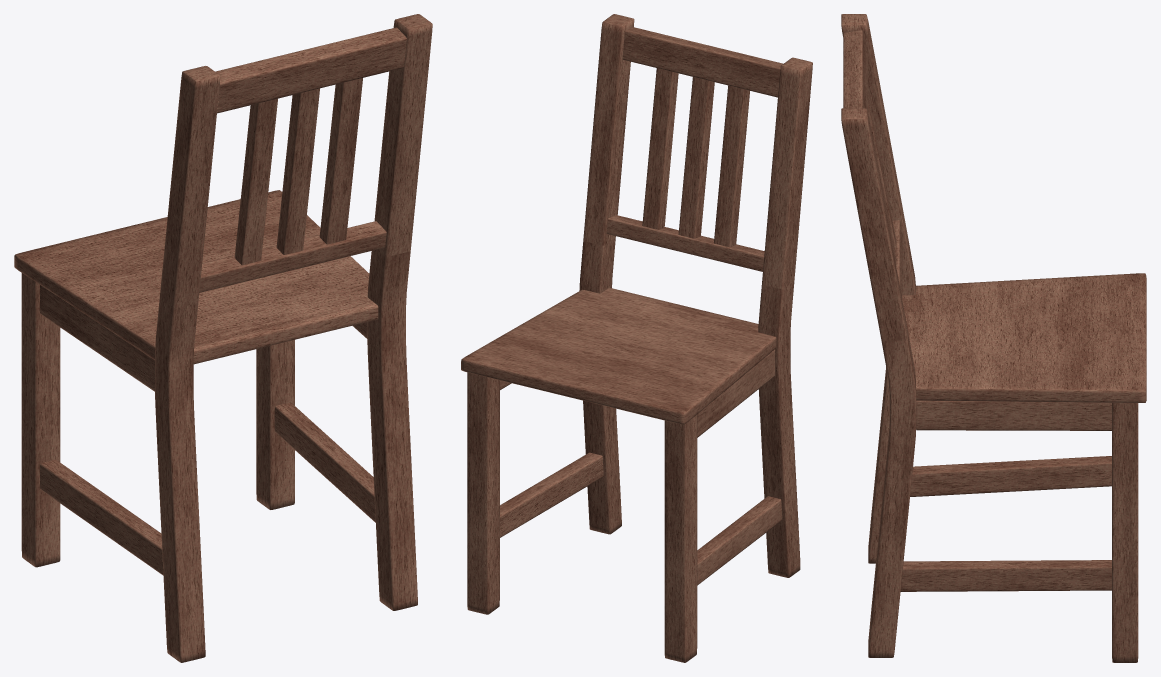
Rendered from Chair41.fbx.
The picture shows the model from 3 angles, left to right: view 1: azimuth 30°, elevation 25°; view 2: azimuth 150°, elevation 25°; view 3: azimuth 270°, elevation 25°; orthographic projection. The views are drawn at different scales.
Parts seen in each view (by area): view 1: Chair41; view 2: Chair41; view 3: Chair41.
Boxes of the visible parts, x1,y1,x2,y2 form: Chair41: (14, 14, 432, 662); Chair41: (461, 14, 812, 662); Chair41: (841, 14, 1146, 662).
Size of the model in its own units: 37.76 by 80.53 by 41.3.
